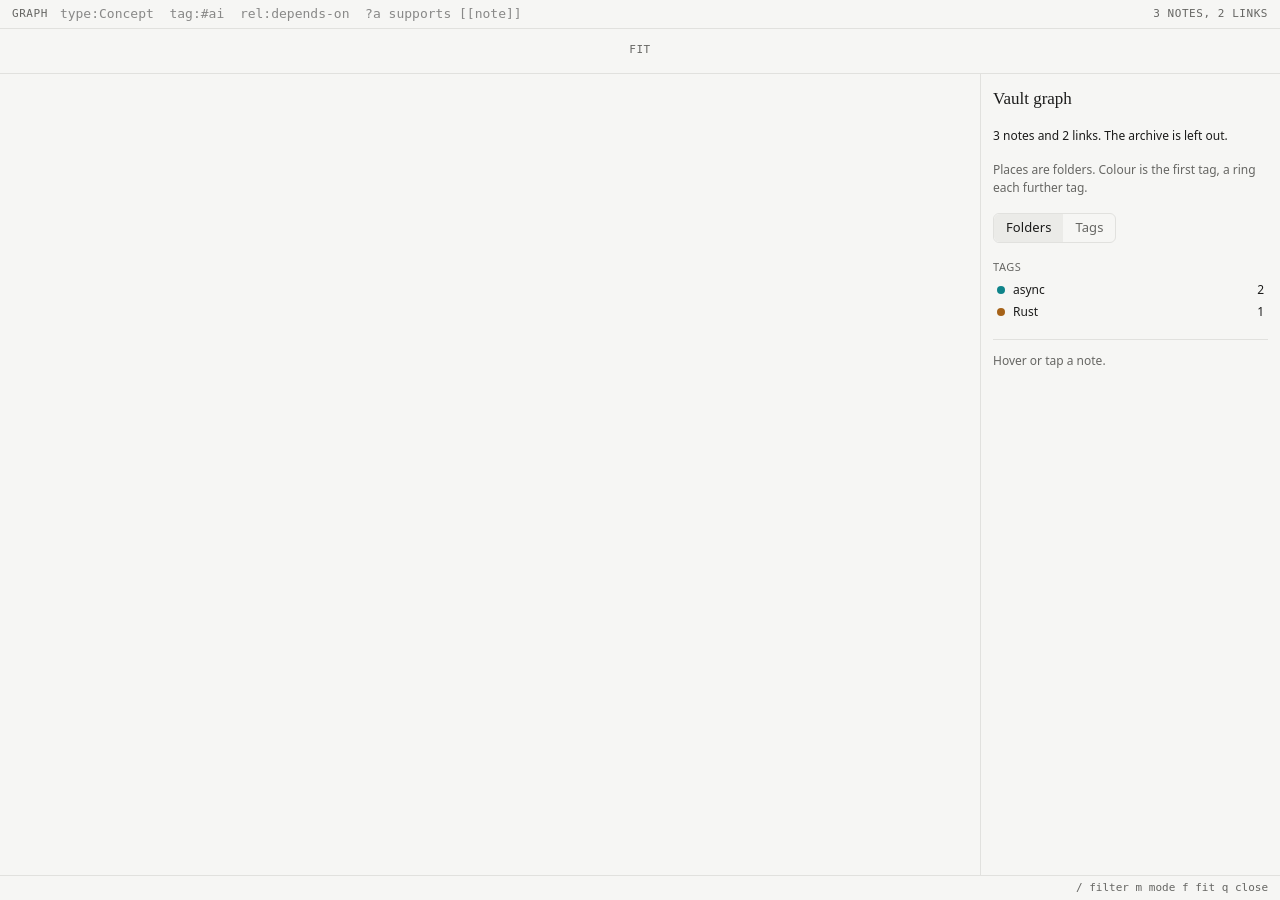
Test: GraphPane side panel › D the header counts the notes and links drawn, after hidden tags
The width and height of the screenshot is (1280, 900).
Click the button "async 2". click: (1029, 290)
box: [993, 279, 1268, 301]
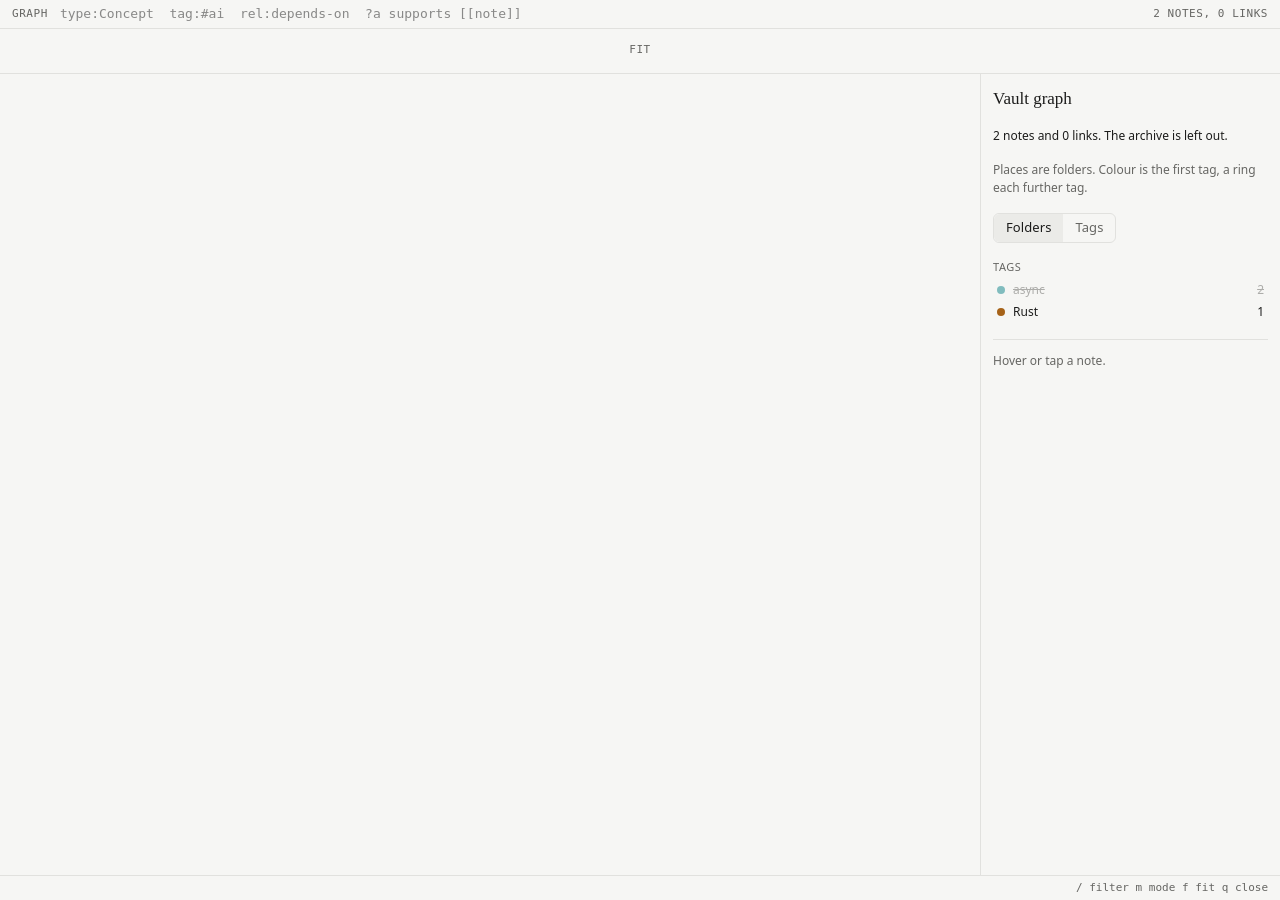
Expected: the text "2 notes, 0 links" is shown, [1153, 6, 1268, 22]
